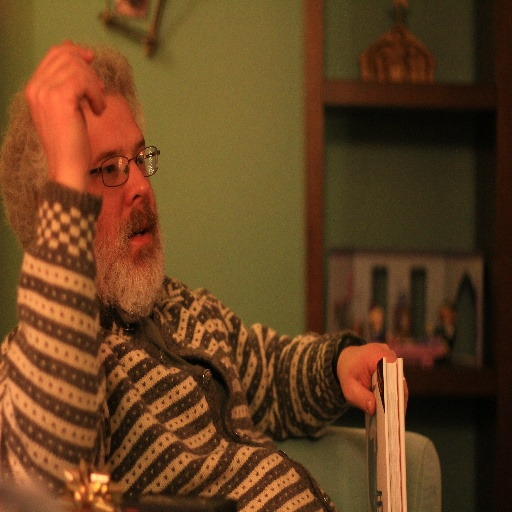hand: (22, 38, 108, 181), (333, 344, 401, 432)
